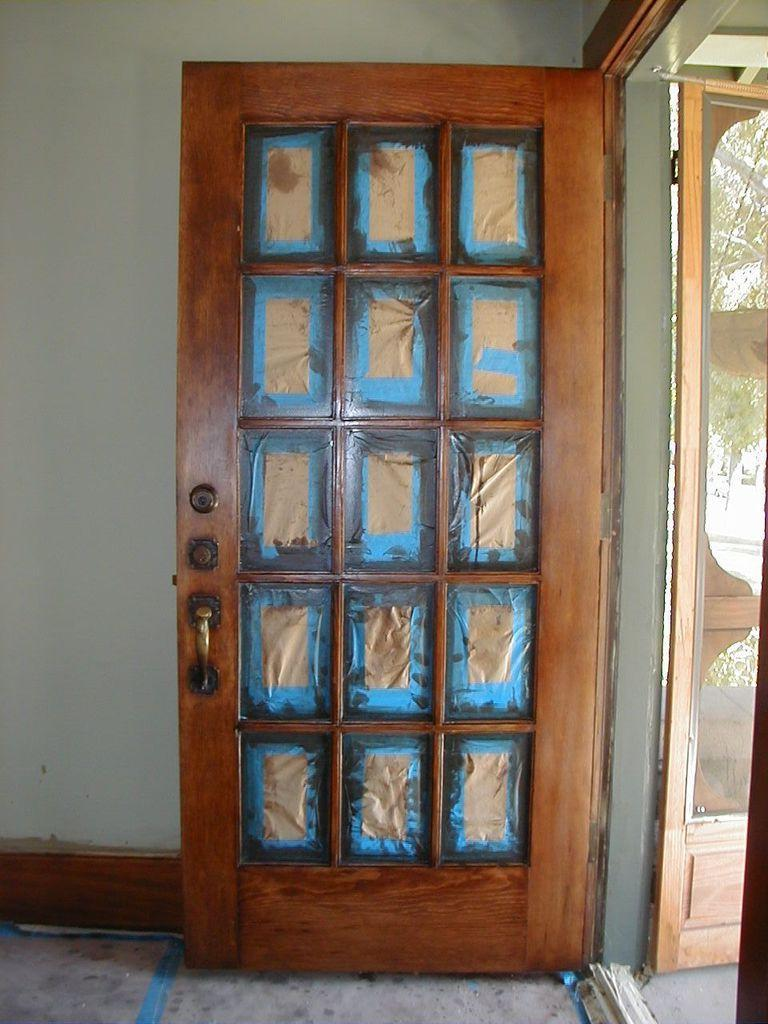door: (188, 75, 601, 960), (677, 92, 767, 952)
handle: (194, 596, 216, 681)
